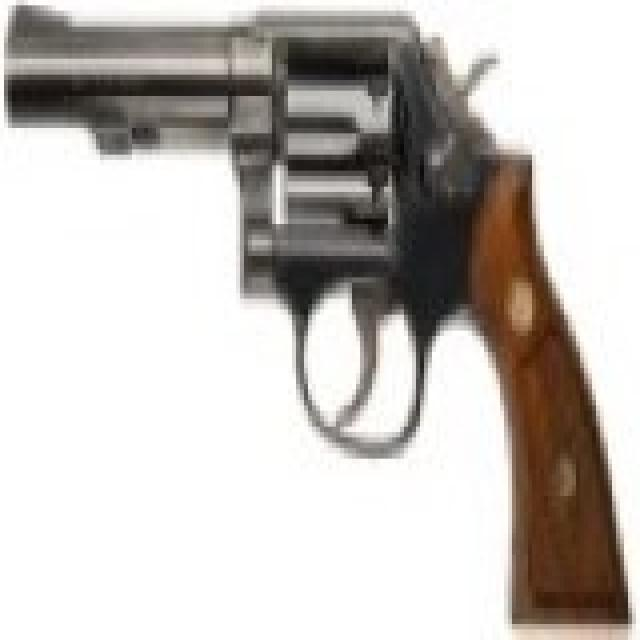gun: (0, 0, 624, 629)
